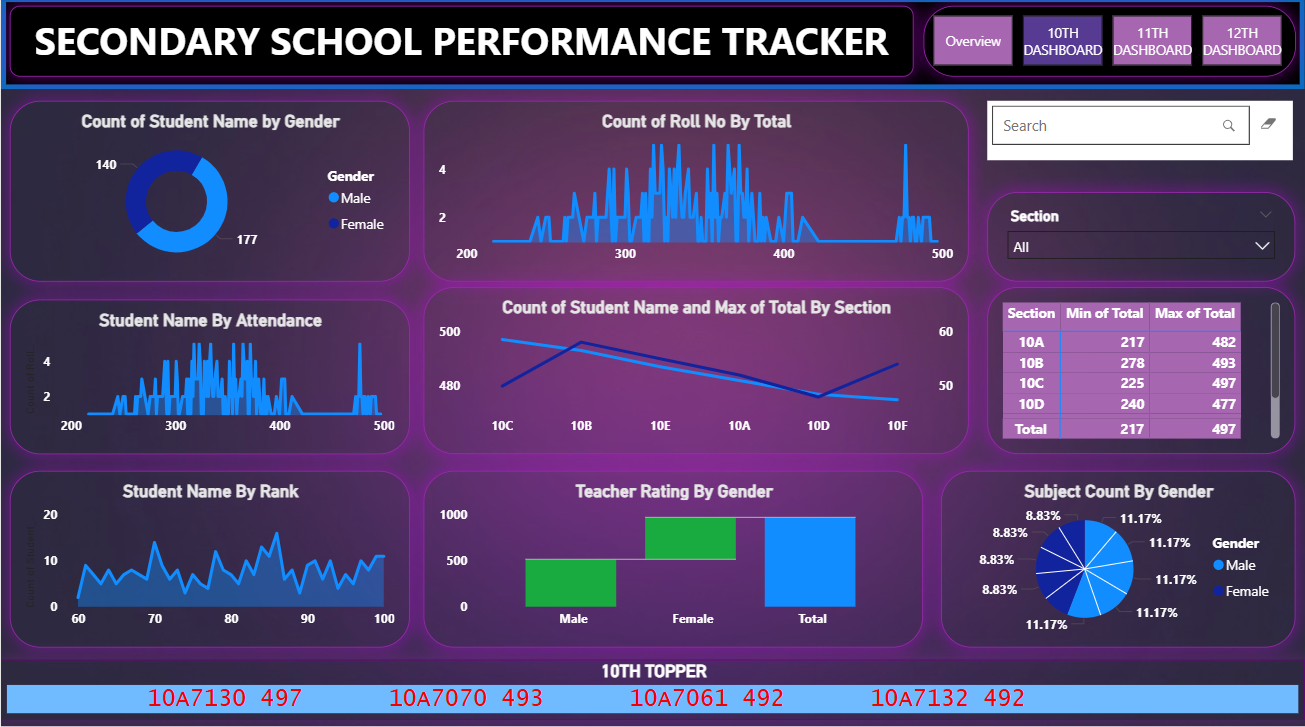

What the dashboard file says about the page in this screenshot:
{"tool":"powerbi","page":{"name":"10TH DASHBOARD","canvas":[1280,720],"ordinal":1},"visuals":[{"type":"shape","box":[0,0,1279.8,90.8],"z":0},{"type":"pageNavigator","box":[905.5,8.6,365.6,69.9],"z":1000},{"type":"donutChart","title":"Count of Student Name by Gender","fields":{"Category":["tenth.Gender"],"Y":["CountNonNull(tenth.Student_Name)"]},"box":[8.1,102.3,393,177.9],"z":2000},{"type":"stackedAreaChart","title":"Student Name By Attendance","fields":{"Category":["tenth.Total"],"Y":["CountNonNull(tenth.Roll_No)"]},"box":[8.1,296.5,393,152.3],"z":3000},{"type":"stackedAreaChart","title":"Student Name By Rank","fields":{"Category":["tenth.Attendance"],"Y":["CountNonNull(tenth.Student_Name)"]},"box":[8.1,465.1,393,173.3],"z":4000},{"type":"ScrollingTextVisual1448795304508","title":"10TH TOPPER","fields":{"Category":["tenth.Roll_No"],"Measure Absolute":["Sum(tenth.Total)"]},"box":[0,650,1280.2,59.3],"z":5000},{"type":"lineChart","title":" Count of Student Name  and Max of Total By Section","fields":{"Category":["tenth.Section"],"Y":["Max(tenth.Total)"],"Y2":["CountNonNull(tenth.Gender)"]},"box":[415.1,284.9,534.9,164],"z":6000},{"type":"waterfallChart","title":" Teacher Rating By Gender","fields":{"Y":["Sum(tenth.Teacher_Rating)"],"Category":["tenth.Gender"]},"box":[415.1,465.1,490.7,173.3],"z":7000},{"type":"slicer","fields":{"Values":["tenth.Section"]},"box":[968.6,191.9,302.3,88.4],"z":8000},{"type":"pieChart","title":"Subject Count By Gender","fields":{"Category":["tenth.Gender"],"Y":["CountNonNull(tenth.English)","CountNonNull(tenth.Maths)","CountNonNull(tenth.Science)","CountNonNull(tenth.Social_Science)","CountNonNull(tenth.Tamil)"]},"box":[923.3,465.1,347.7,173.3],"z":9000},{"type":"pivotTable","fields":{"Rows":["tenth.Section"],"Values":["Min(tenth.Total)1","Max(tenth.Total)"]},"box":[968.6,284.9,302.3,164],"z":10000},{"type":"areaChart","title":"Count of Roll No By Total","fields":{"Y":["CountNonNull(tenth.Roll_No)"],"Category":["tenth.Total"]},"box":[415.1,102.3,534.9,177.9],"z":11000},{"type":"textbox","box":[8.6,8.6,887.1,69.9],"z":12000},{"type":"textFilter25A4896A83E0487089E2B90C9AE57C8A","fields":{"field":["tenth.Roll_No"]},"box":[968.6,102.3,300,58.1],"z":13000}]}

Visuals, with their boxes in screenshot pixels (x1, y1, x2, y2), scaled from the page's 1280x720 canvas onto the 1305x727 screenshot:
shape: {"x1": 0, "y1": 0, "x2": 1304, "y2": 92}
pageNavigator: {"x1": 923, "y1": 9, "x2": 1296, "y2": 79}
"Count of Student Name by Gender" donutChart: {"x1": 8, "y1": 103, "x2": 409, "y2": 283}
"Student Name By Attendance" stackedAreaChart: {"x1": 8, "y1": 299, "x2": 409, "y2": 453}
"Student Name By Rank" stackedAreaChart: {"x1": 8, "y1": 470, "x2": 409, "y2": 645}
"10TH TOPPER" ScrollingTextVisual1448795304508: {"x1": 0, "y1": 656, "x2": 1304, "y2": 716}
" Count of Student Name  and Max of Total By Section" lineChart: {"x1": 423, "y1": 288, "x2": 969, "y2": 453}
" Teacher Rating By Gender" waterfallChart: {"x1": 423, "y1": 470, "x2": 923, "y2": 645}
slicer - tenth.Section: {"x1": 988, "y1": 194, "x2": 1296, "y2": 283}
"Subject Count By Gender" pieChart: {"x1": 941, "y1": 470, "x2": 1296, "y2": 645}
pivotTable - tenth.Section x Min(tenth.Total)1: {"x1": 988, "y1": 288, "x2": 1296, "y2": 453}
"Count of Roll No By Total" areaChart: {"x1": 423, "y1": 103, "x2": 969, "y2": 283}
textbox: {"x1": 9, "y1": 9, "x2": 913, "y2": 79}
textFilter25A4896A83E0487089E2B90C9AE57C8A - tenth.Roll_No: {"x1": 988, "y1": 103, "x2": 1293, "y2": 162}
